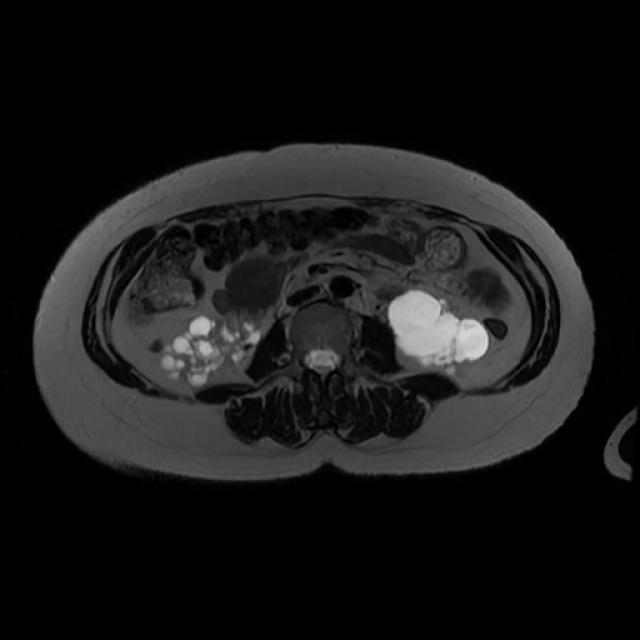sag: (161, 308, 269, 388)
sol: (387, 288, 492, 375)
